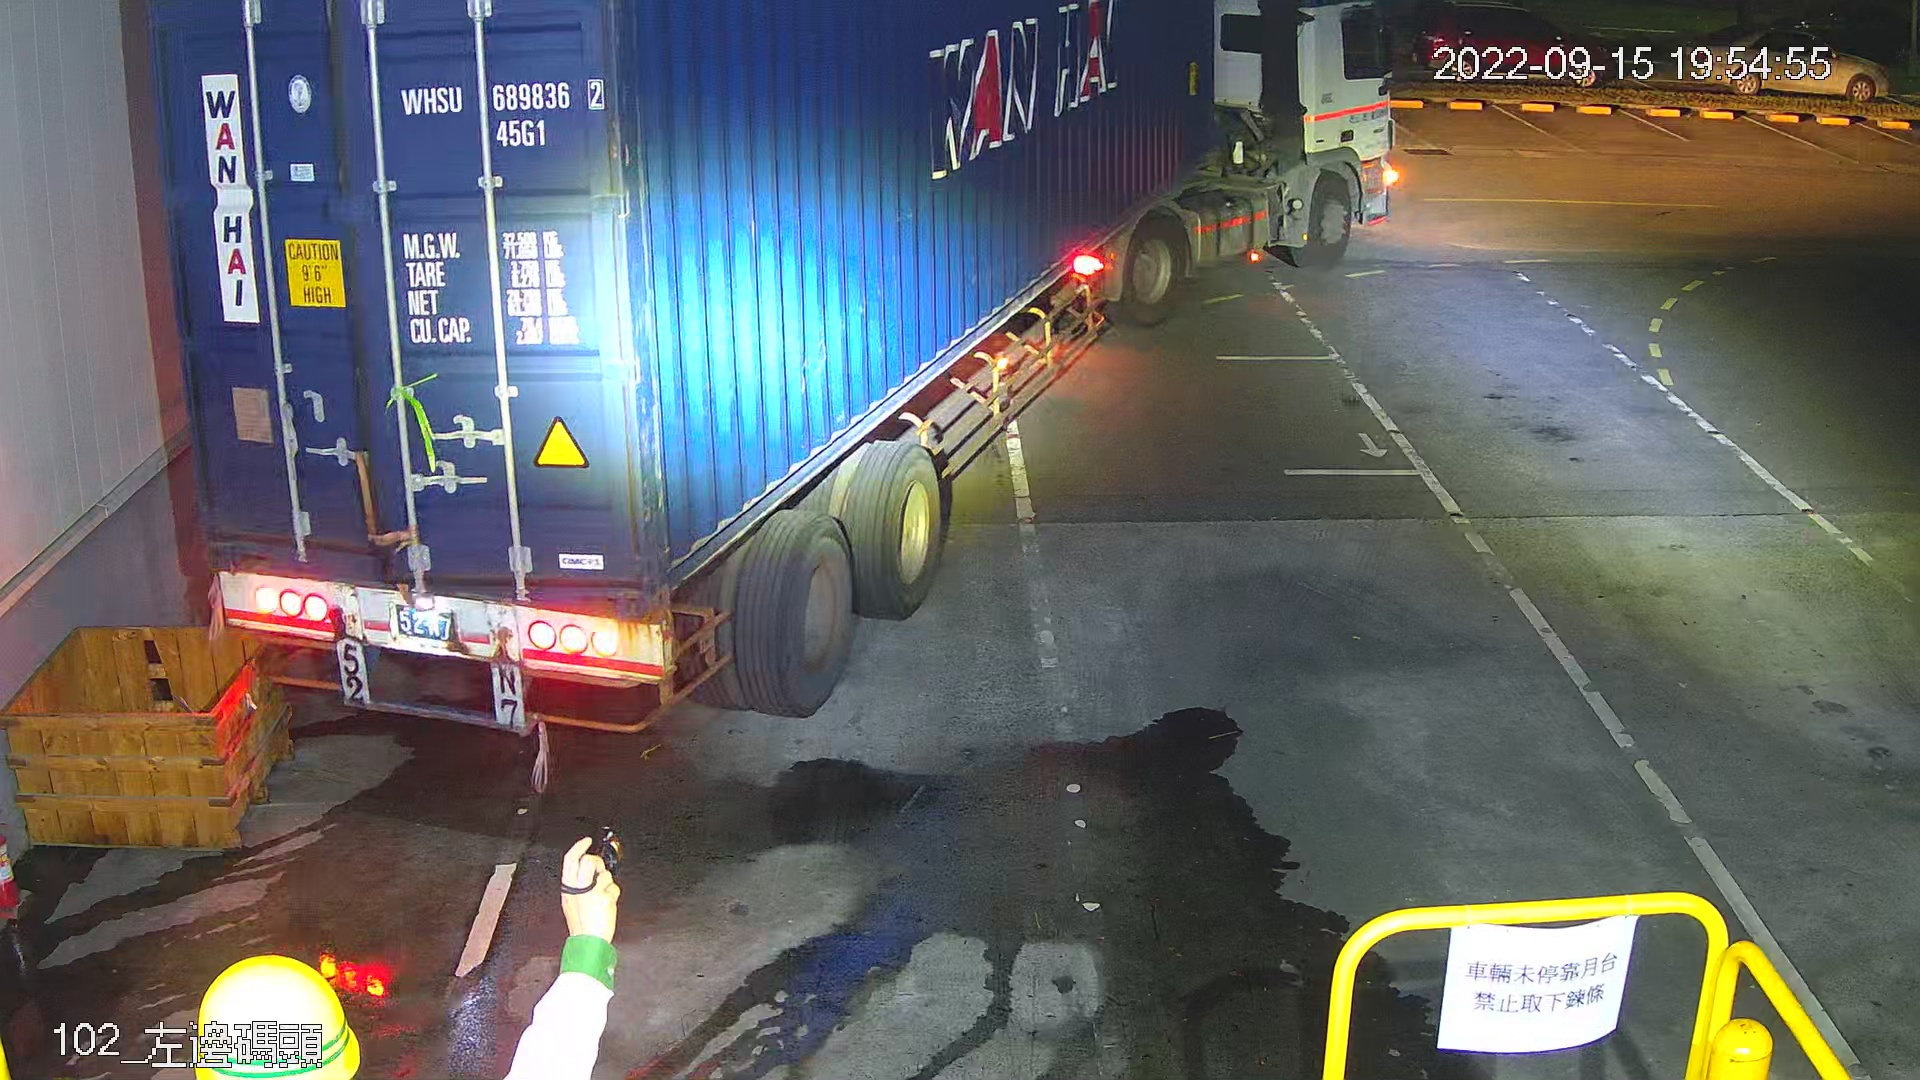container: (378, 70, 609, 154)
